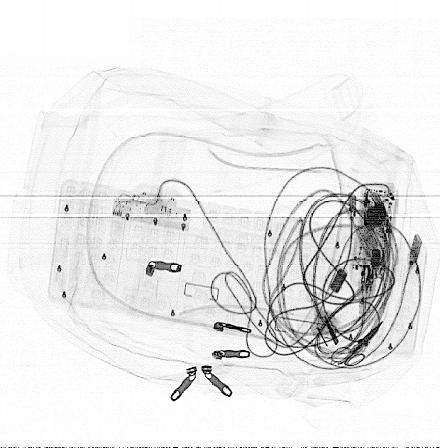Scissors: (330, 320, 385, 369)
